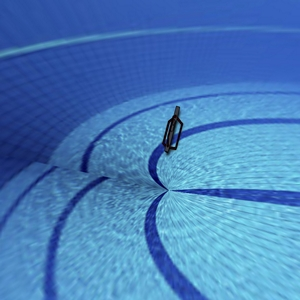submarine: (146, 96, 195, 161)
